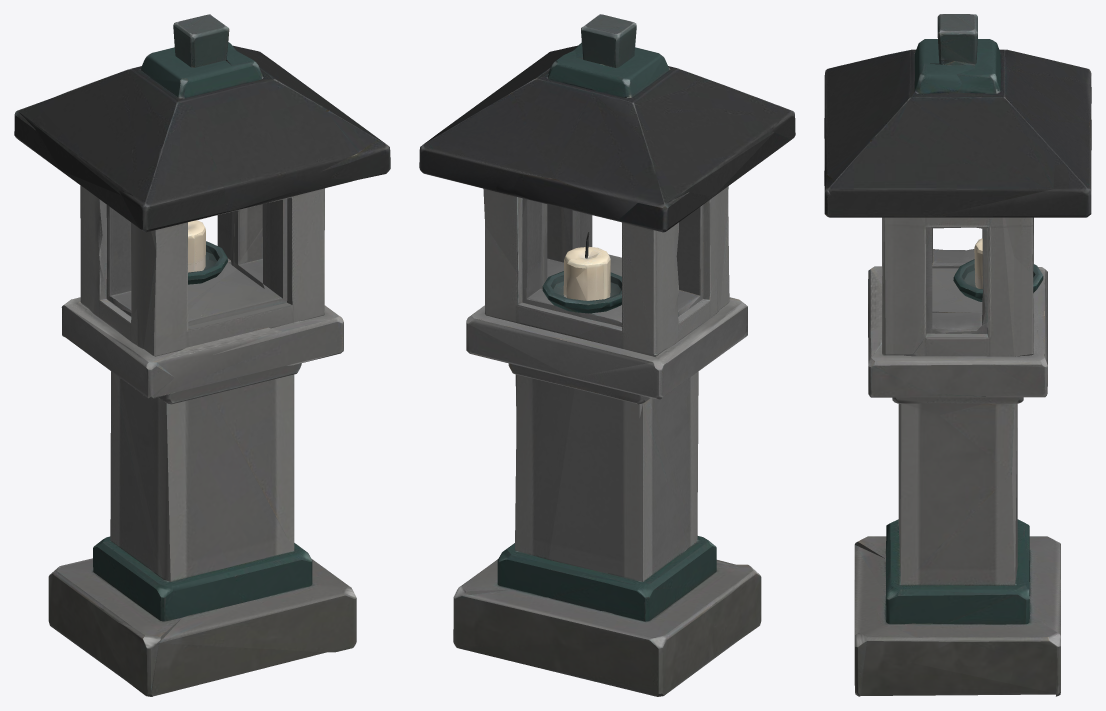
Rendered from gardenLantern.glb.
3 views of the same model, side by side, from view 1: azimuth 30°, elevation 25°; view 2: azimuth 150°, elevation 25°; view 3: azimuth 270°, elevation 25° (orthographic).
Parts seen in each view (by area): view 1: Mesh_0; view 2: Mesh_0; view 3: Mesh_0.
Boxes of the visible parts, x1=… form: Mesh_0: x1=14, y1=14, x2=390, y2=696; Mesh_0: x1=419, y1=14, x2=795, y2=696; Mesh_0: x1=824, y1=14, x2=1091, y2=696.
Size of the model in its own units: 0.4661 by 1.1 by 0.4276.
1 material, 1 textured.
